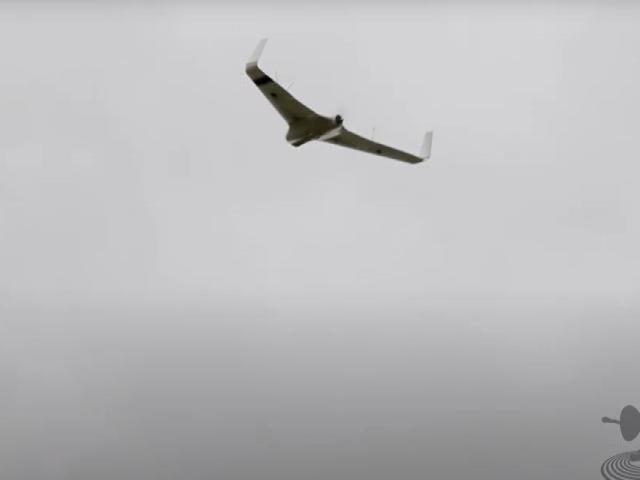iha: (243, 34, 437, 169)
